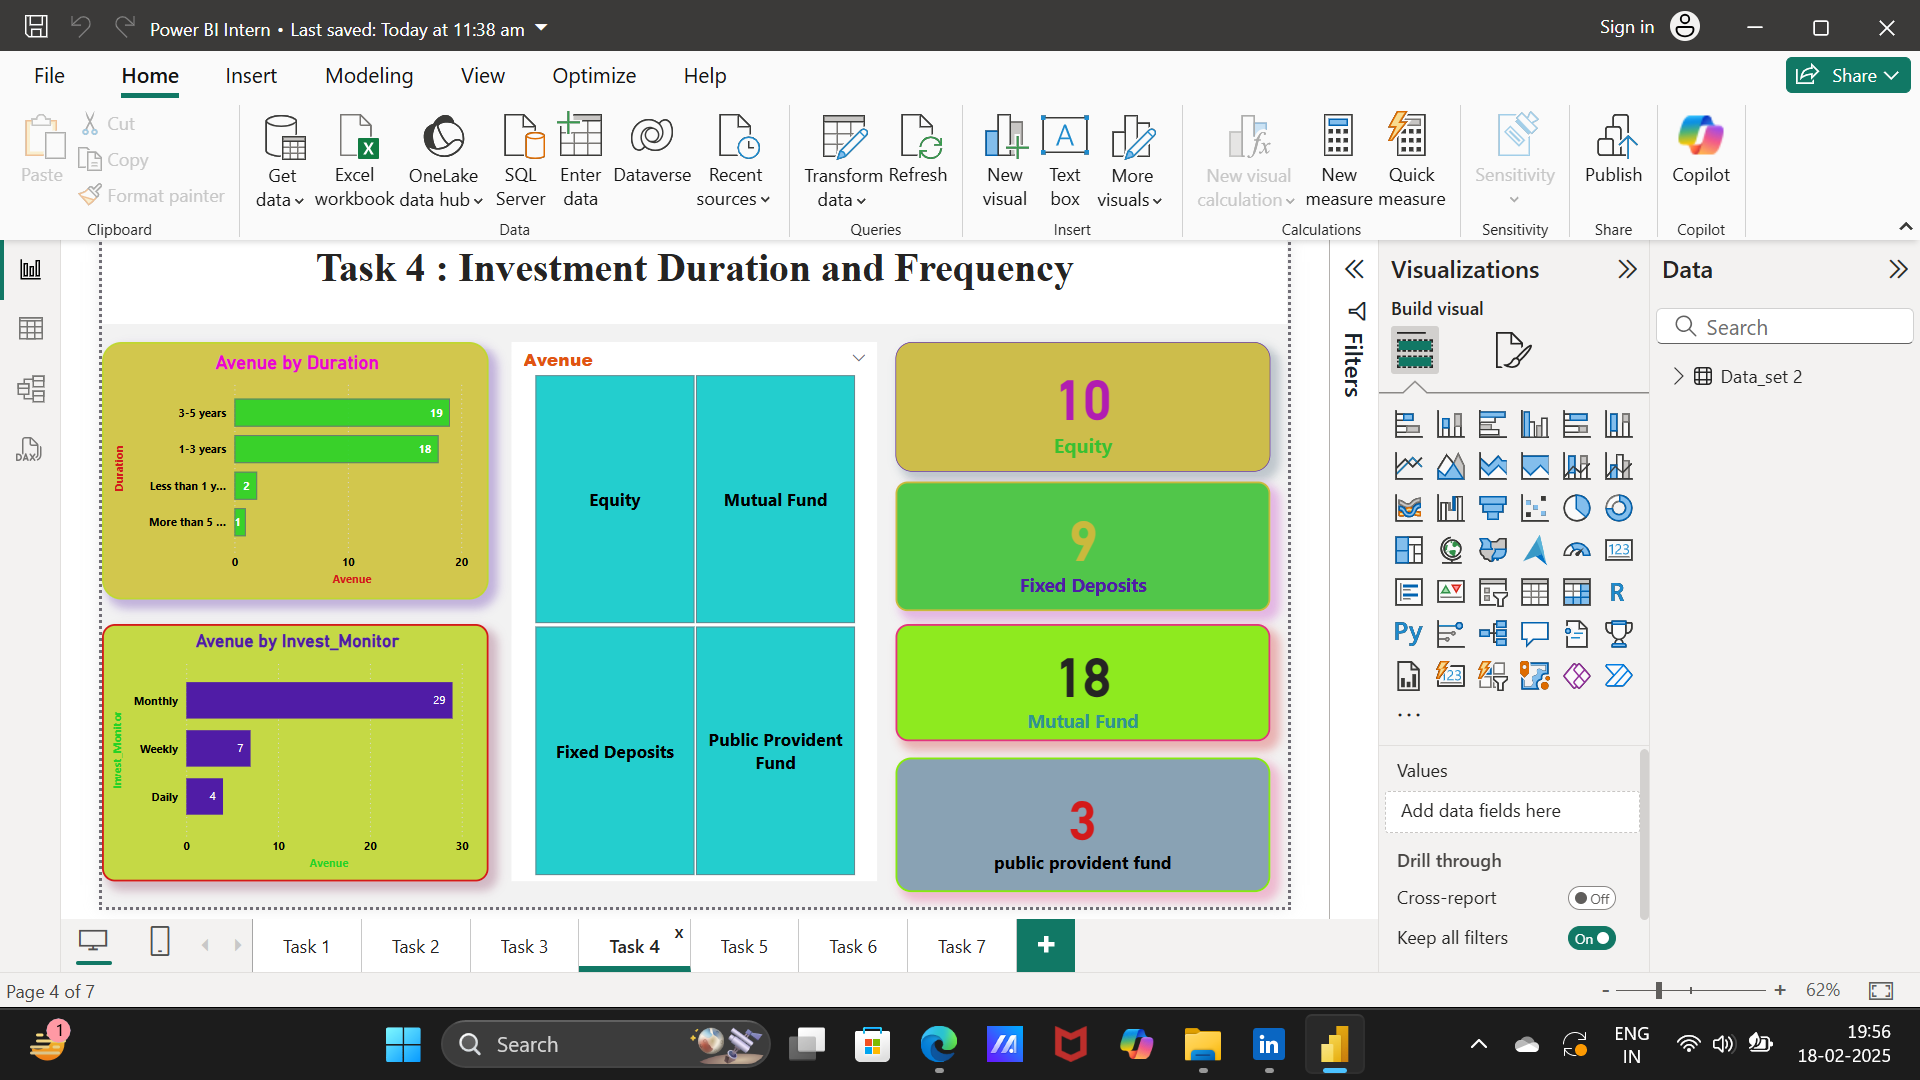

This screenshot's page, from the dashboard's own definition file:
{"tool":"powerbi","page":{"name":"Task 4","canvas":[1280,720],"ordinal":3},"visuals":[{"type":"textbox","box":[0,0,1279.4,90.7],"z":0},{"type":"clusteredBarChart","fields":{"Category":["Data_set 2.Duration"],"Y":["CountNonNull(Data_set 2.Avenue)"]},"box":[0,109.6,417.6,277.8],"z":1000},{"type":"clusteredBarChart","fields":{"Category":["Data_set 2.Invest_Monitor"],"Y":["CountNonNull(Data_set 2.Avenue)"]},"box":[0,413.9,417.6,277.8],"z":2000},{"type":"slicer","fields":{"Values":["Data_set 2.Avenue"]},"box":[442.2,109.6,395,582.1],"z":3000},{"type":"card","fields":{"Values":["Data_set 2.Equity"]},"box":[856.1,109.6,404.4,139.8],"z":4000},{"type":"card","fields":{"Values":["Data_set 2.Fixed Deposits"]},"box":[856.1,260.8,404.4,139.8],"z":5000},{"type":"card","fields":{"Values":["Data_set 2.Mutual Funds"]},"box":[856.1,413.9,404.4,126.6],"z":6000},{"type":"card","fields":{"Values":["Data_set 2.public provident fund"]},"box":[856.1,559.4,404.4,145.5],"z":7000}]}

Visuals, with their boxes on the page's 1280x720 design canvas (x1, y1, x2, y2). These are canvas units, not pixel positions in the 1920x1080 screenshot, which may show the page scaled, cropped or inside an application window:
textbox: detection(0, 0, 1279, 91)
clusteredBarChart - Data_set 2.Duration x CountNonNull(Data_set 2.Avenue): detection(0, 110, 418, 387)
clusteredBarChart - Data_set 2.Invest_Monitor x CountNonNull(Data_set 2.Avenue): detection(0, 414, 418, 692)
slicer - Data_set 2.Avenue: detection(442, 110, 837, 692)
card - Data_set 2.Equity: detection(856, 110, 1260, 249)
card - Data_set 2.Fixed Deposits: detection(856, 261, 1260, 401)
card - Data_set 2.Mutual Funds: detection(856, 414, 1260, 540)
card - Data_set 2.public provident fund: detection(856, 559, 1260, 705)
